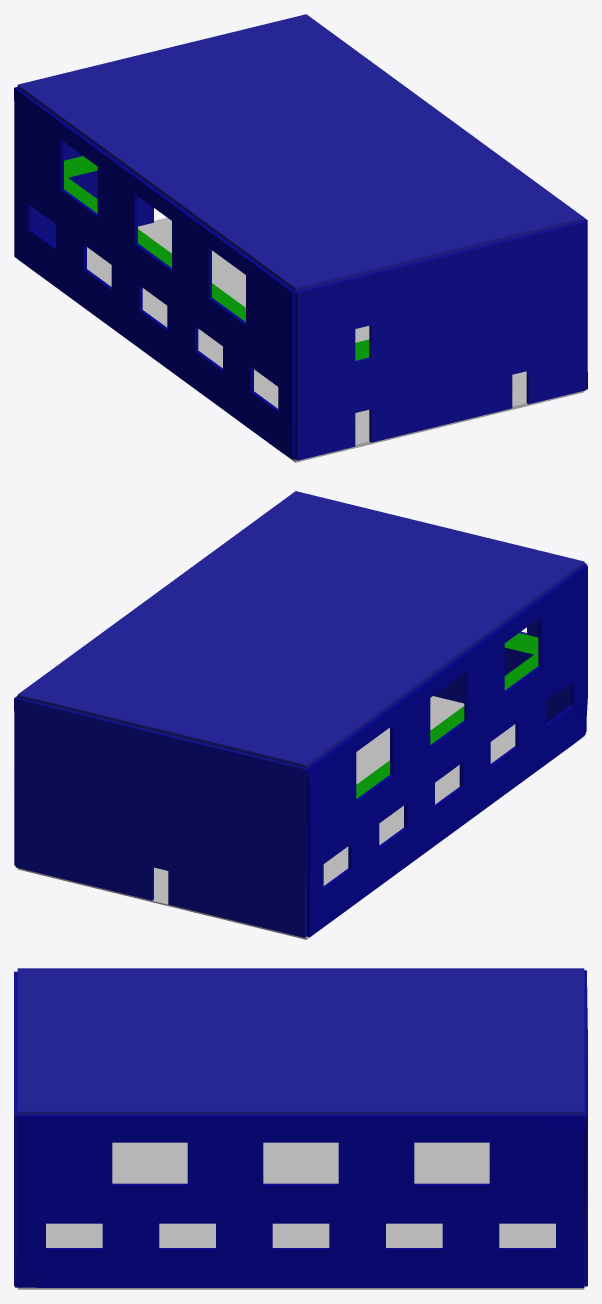
The model's file is basket-ball1.obj.
3 views of the same model, one above another, from view 1: azimuth 30°, elevation 25°; view 2: azimuth 150°, elevation 25°; view 3: azimuth 270°, elevation 25° (orthographic).
Visible parts, largest first — view 1: ROOM_ROOM_up, ROOM_ROOM_short-wall, ROOM_ROOM_long-wall, ROOM_ROOM_sport-floor, ROOM_ROOM_second-stage-floor, ROOM_ROOM_pre-sport-floor; view 2: ROOM_ROOM_up, ROOM_ROOM_short-wall, ROOM_ROOM_long-wall, ROOM_ROOM_sport-floor, ROOM_ROOM_second-stage-floor, ROOM_ROOM_pre-sport-floor; view 3: ROOM_ROOM_up, ROOM_ROOM_long-wall, ROOM_ROOM_sport-floor, ROOM_ROOM_pre-sport-floor, ROOM_ROOM_short-wall.
Part boxes in pixels (x1,y1,x2,y2): ROOM_ROOM_up: [17, 14, 584, 291]; ROOM_ROOM_short-wall: [14, 87, 586, 460]; ROOM_ROOM_long-wall: [14, 87, 587, 459]; ROOM_ROOM_sport-floor: [87, 217, 526, 426]; ROOM_ROOM_second-stage-floor: [64, 156, 369, 360]; ROOM_ROOM_pre-sport-floor: [19, 219, 584, 462]; ROOM_ROOM_up: [17, 491, 584, 768]; ROOM_ROOM_short-wall: [14, 563, 586, 937]; ROOM_ROOM_long-wall: [14, 565, 587, 937]; ROOM_ROOM_sport-floor: [14, 713, 515, 937]; ROOM_ROOM_second-stage-floor: [356, 633, 538, 798]; ROOM_ROOM_pre-sport-floor: [17, 696, 584, 939]; ROOM_ROOM_up: [17, 968, 584, 1115]; ROOM_ROOM_long-wall: [15, 970, 586, 1287]; ROOM_ROOM_sport-floor: [55, 1158, 587, 1287]; ROOM_ROOM_pre-sport-floor: [17, 1142, 584, 1289]; ROOM_ROOM_short-wall: [14, 970, 587, 1286].
Size of the model in its own units: 18.4 by 10.4 by 30.4.
